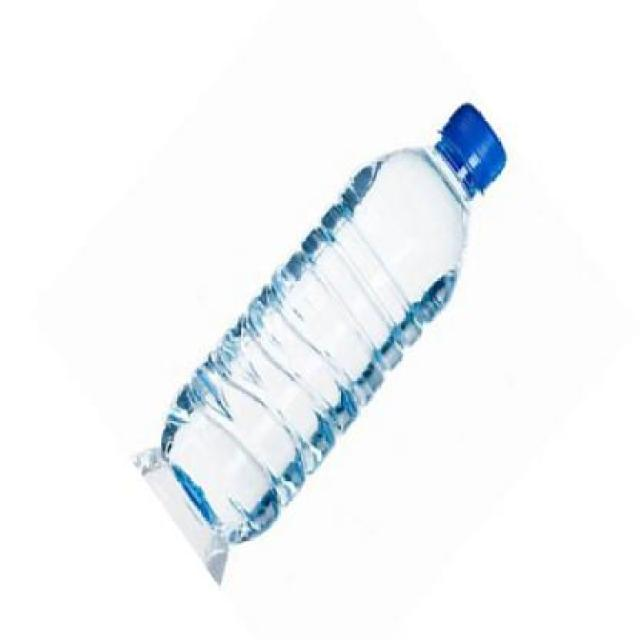Plastic: (163, 101, 508, 547)
